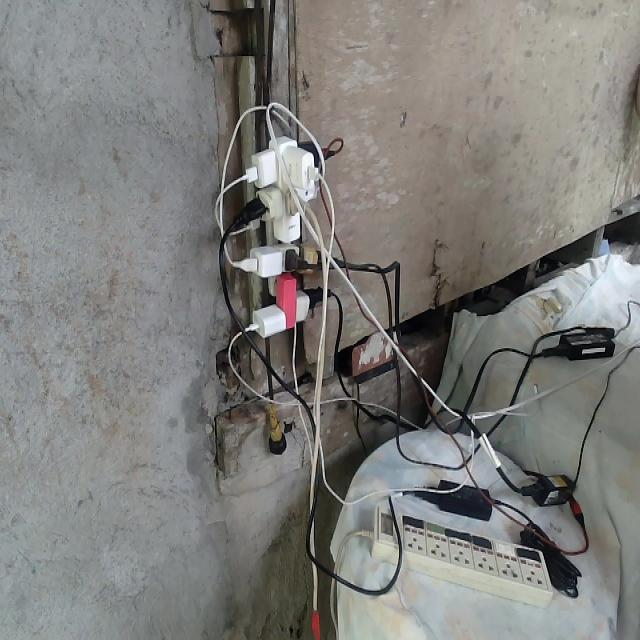-: (241, 132, 321, 339)
